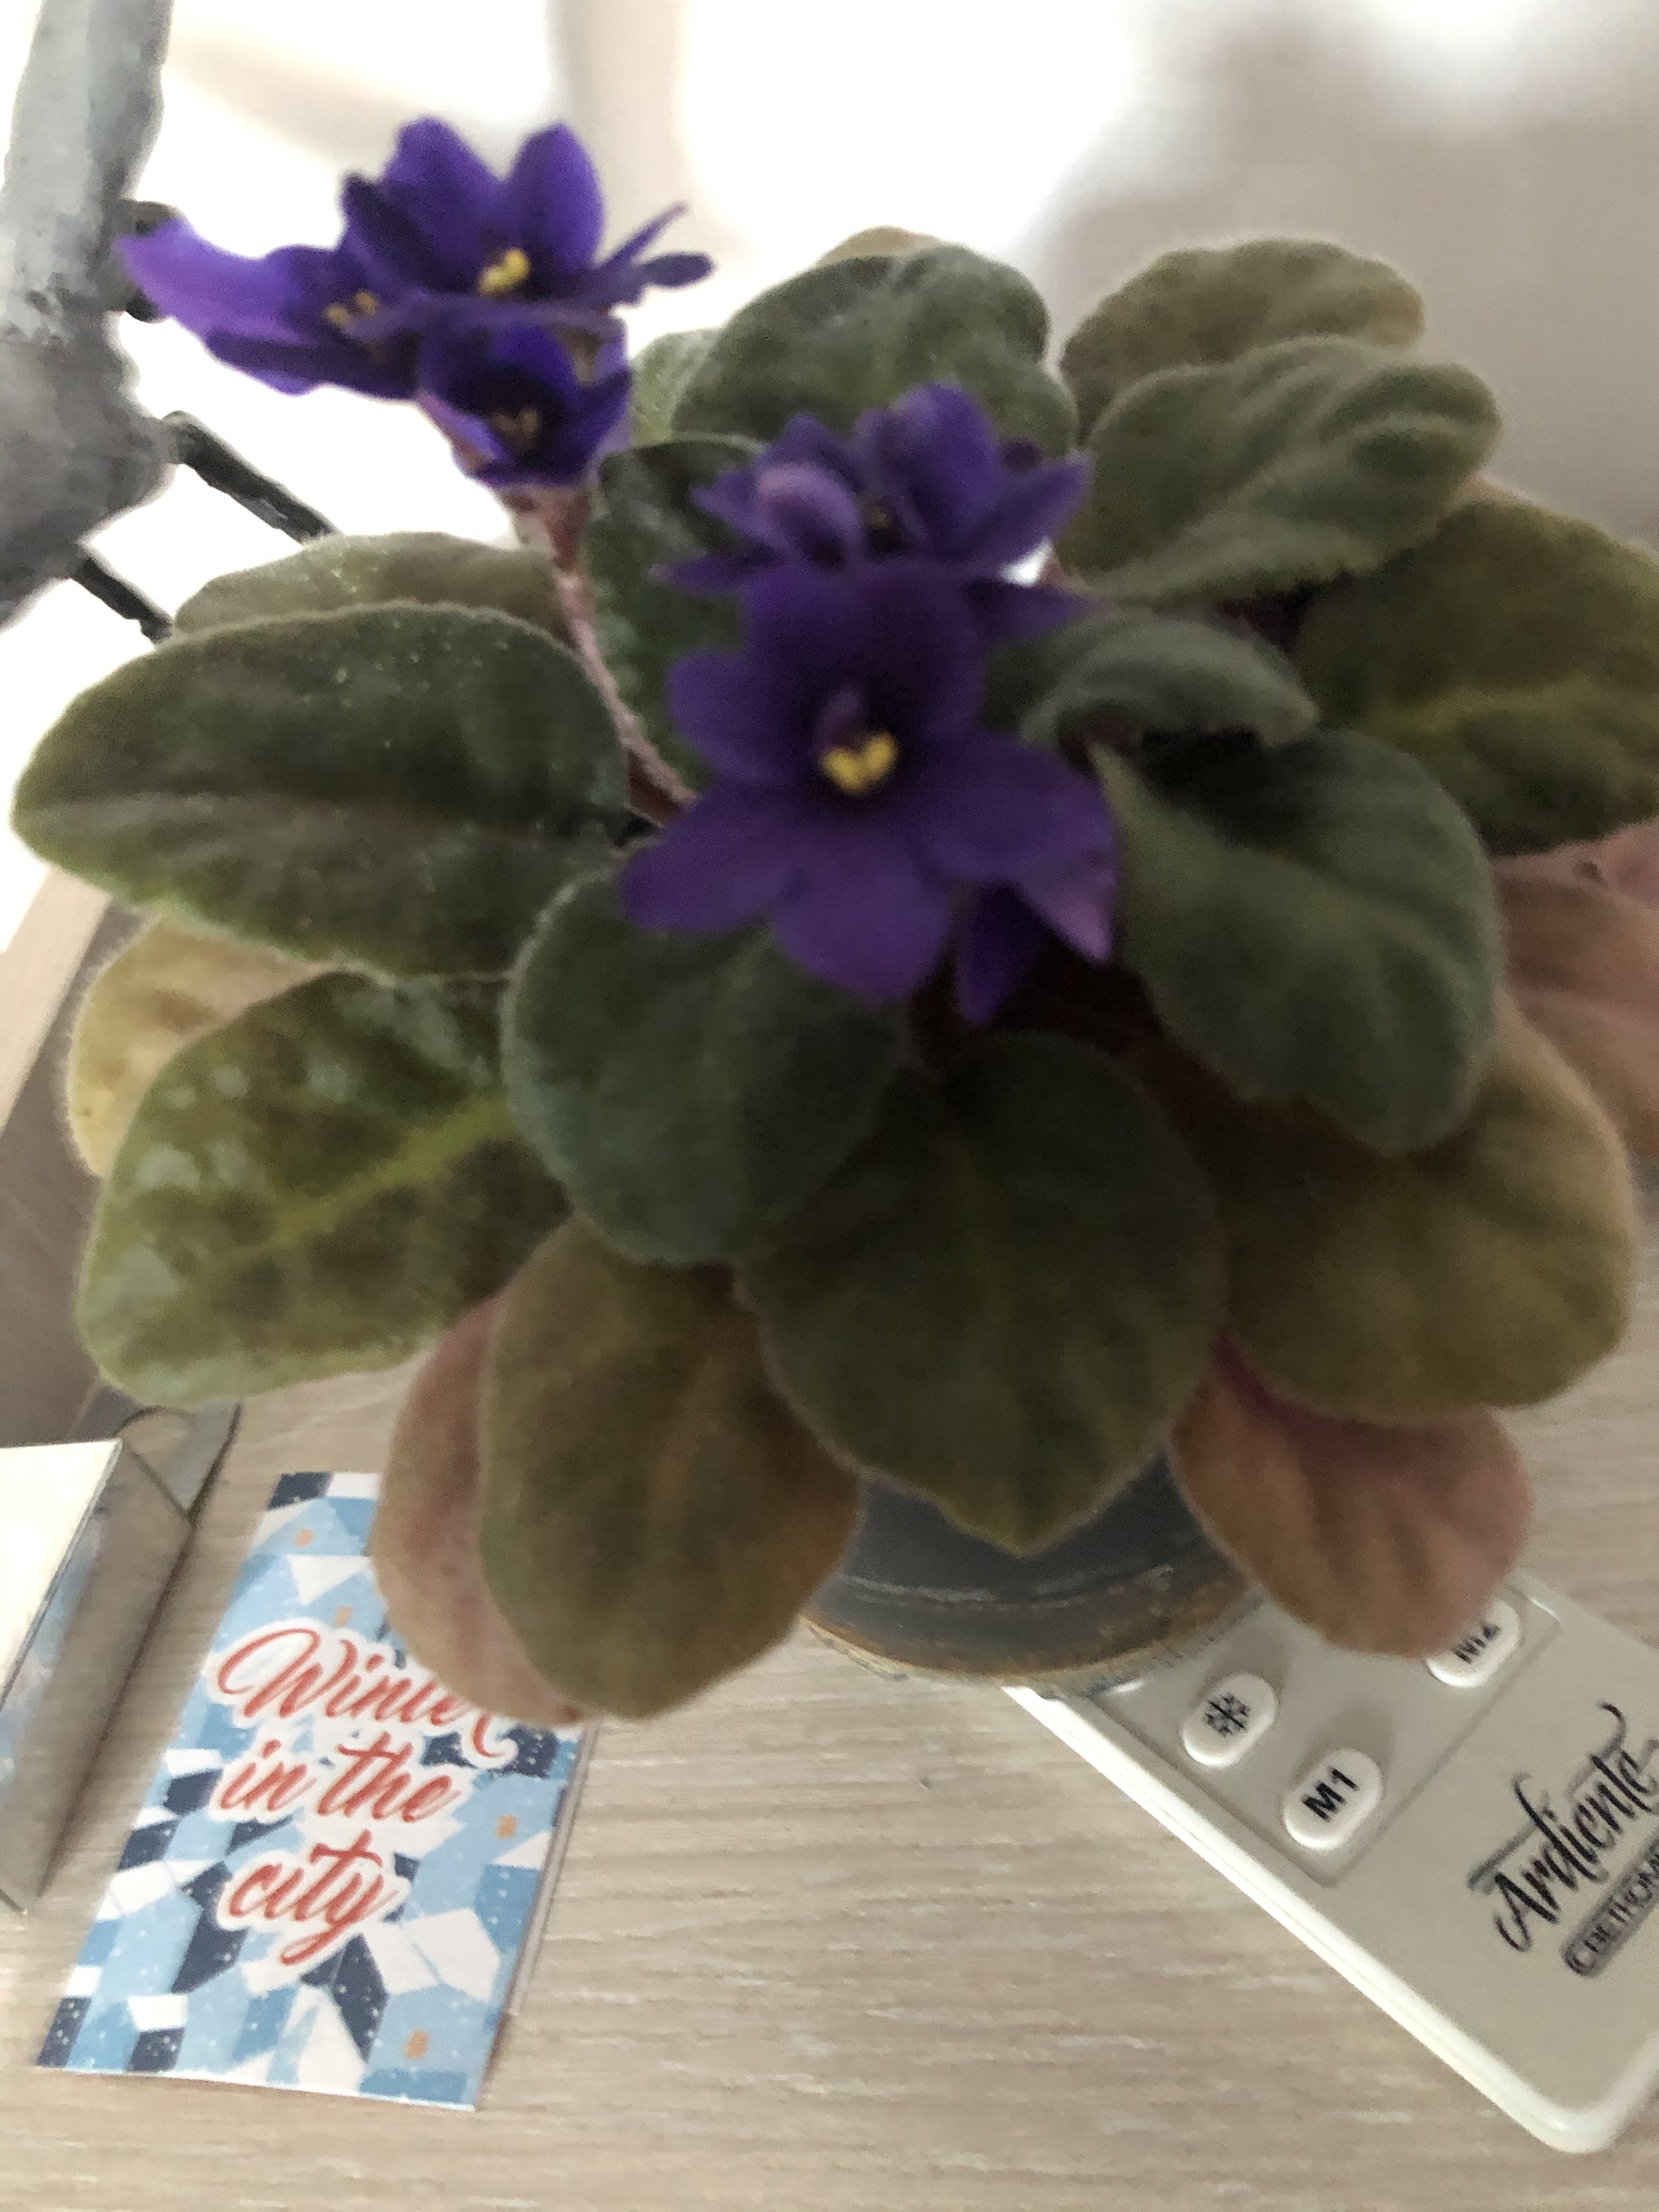ignore: (31, 117, 1659, 1703)
